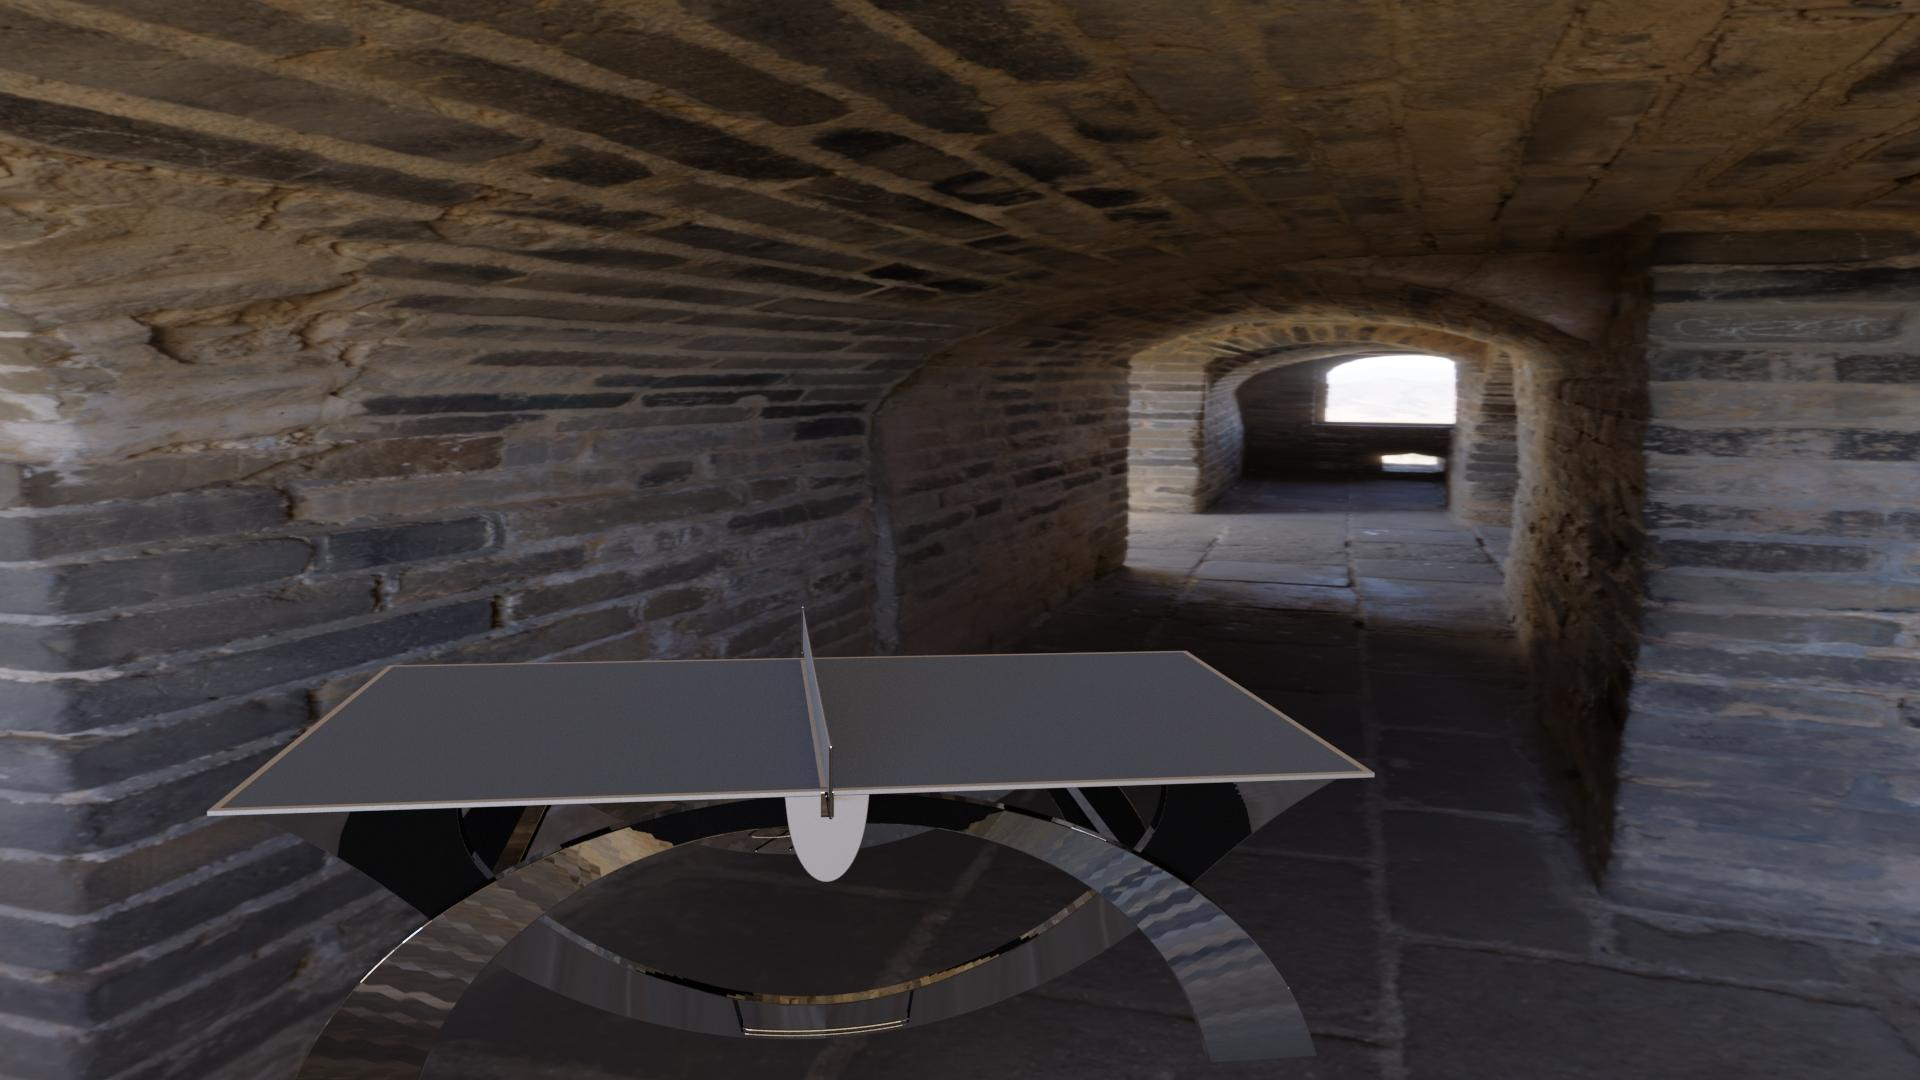table: (220, 653, 1364, 808)
